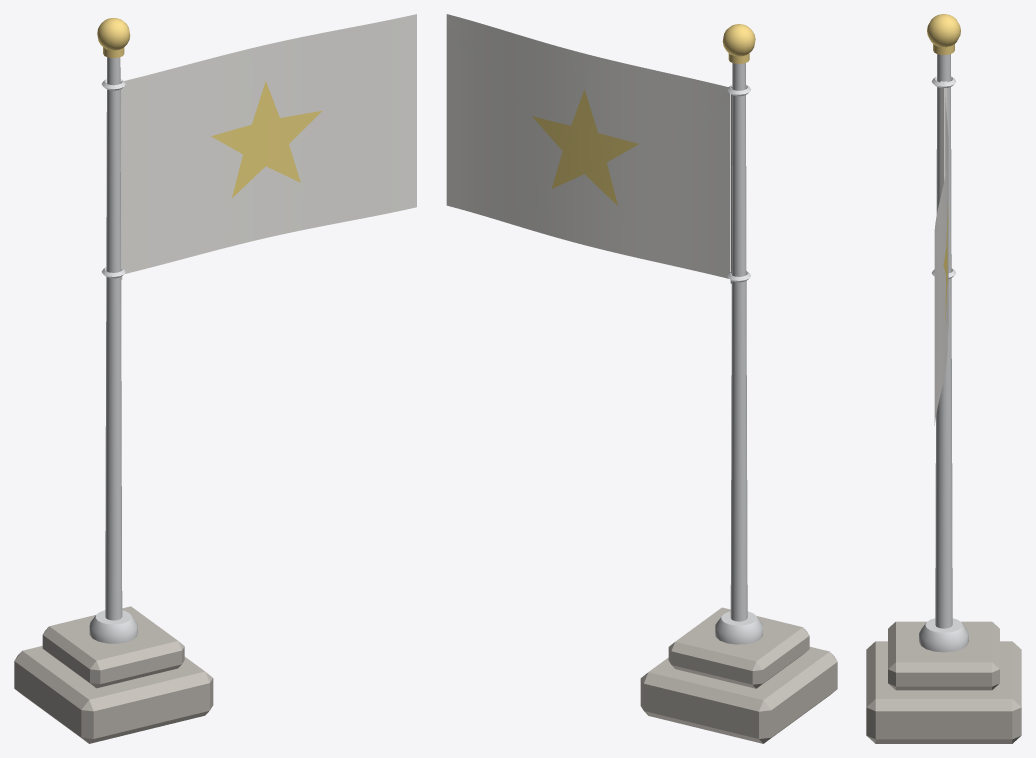
File: flag.glb
3 views of the same model, side by side, from view 1: azimuth 30°, elevation 25°; view 2: azimuth 150°, elevation 25°; view 3: azimuth 270°, elevation 25° (orthographic). The views are drawn at different scales.
Visible parts, largest first — view 1: cloth, flag; view 2: cloth, flag; view 3: flag, cloth.
Part boxes in pixels (bbox=[...]): cloth: bbox=[120, 14, 416, 279]; flag: bbox=[14, 18, 213, 743]; cloth: bbox=[446, 14, 732, 283]; flag: bbox=[640, 24, 837, 743]; flag: bbox=[866, 14, 1021, 743]; cloth: bbox=[934, 81, 948, 425].
Bounding box in the file's own units: 1.38 × 2.49 × 0.5.
